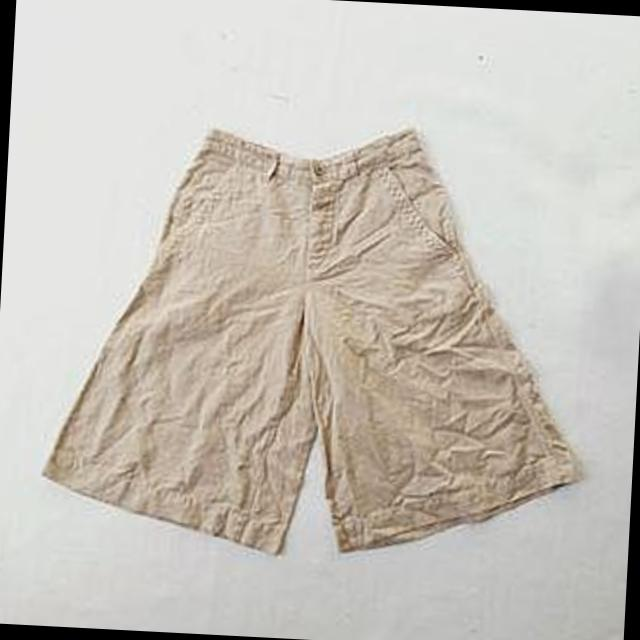SHORT: (27, 104, 617, 576)
